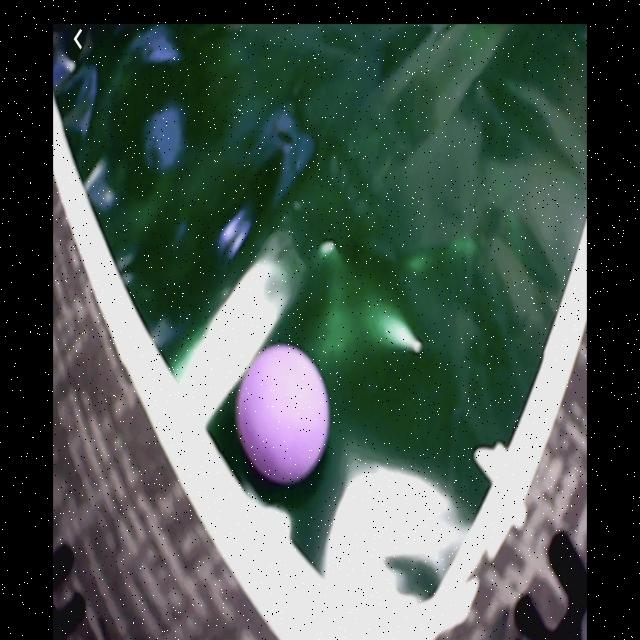ball: (236, 344, 330, 482)
